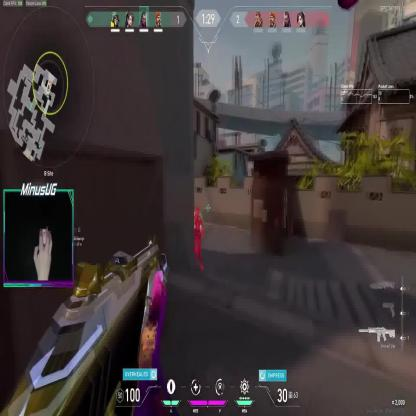enemy: (190, 206, 204, 271)
enemy_head: (195, 206, 200, 217)
